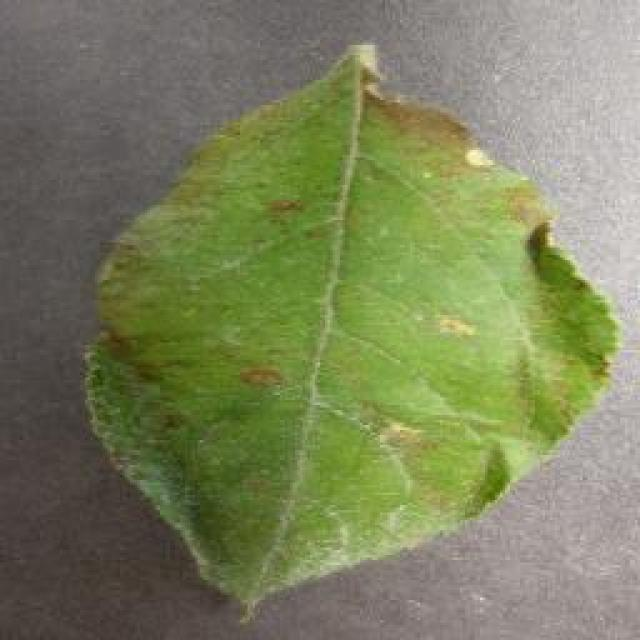apple scab disease: (80, 40, 620, 622)
